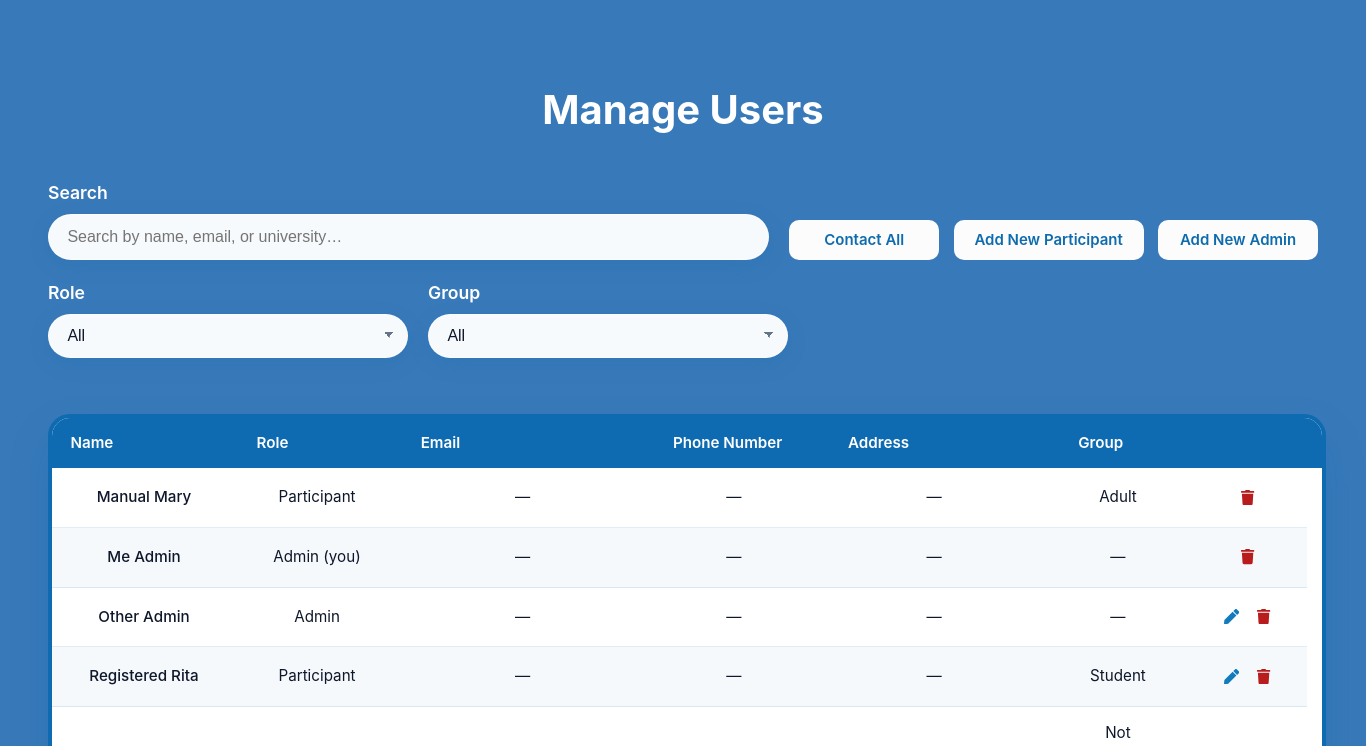
Scenario: Manage Users role select › shows a generic message for unexpected errors
Click the button named "Change role for Other Admin" at {"x": 1232, "y": 617}, box [1218,603,1246,631]
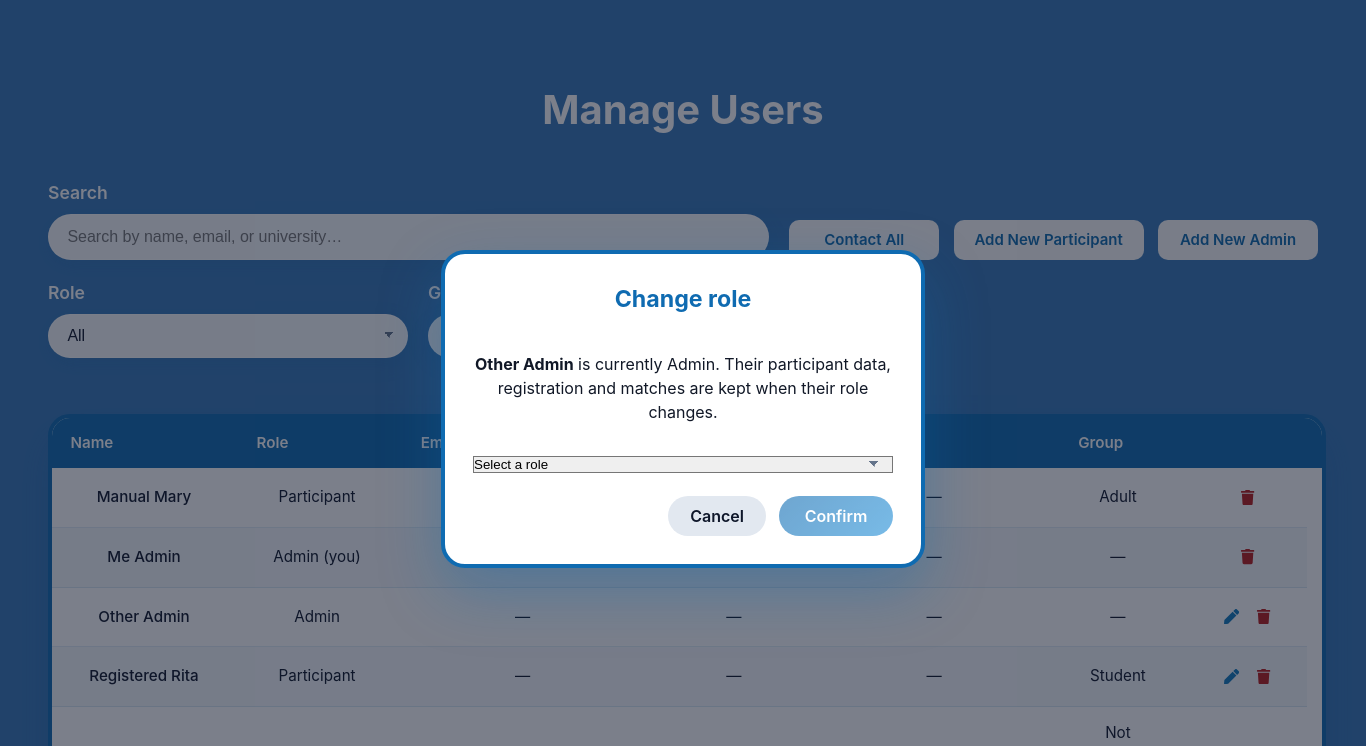
Select "Participant" in the dropdown named "New role" at {"x": 683, "y": 465}, box [473,456,893,473]
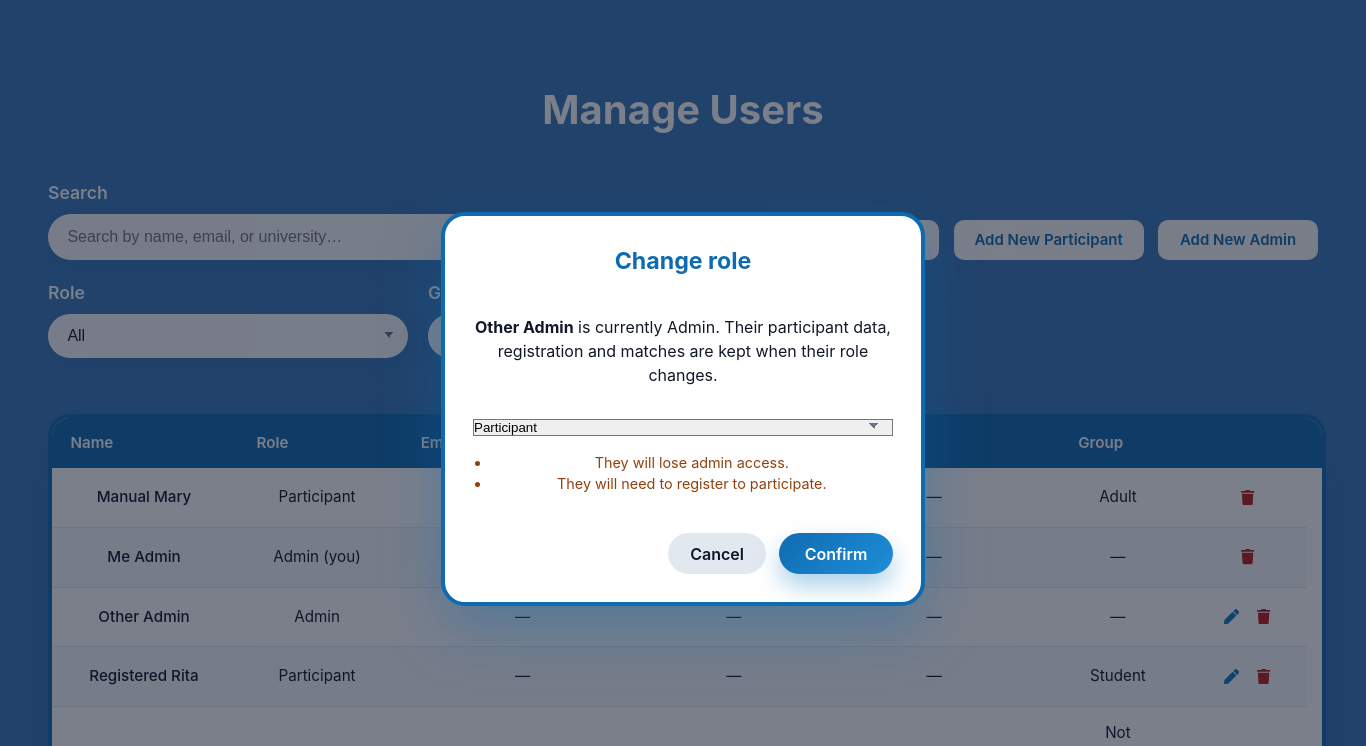
Click the button "Confirm" at {"x": 836, "y": 554}, box [779,533,893,574]
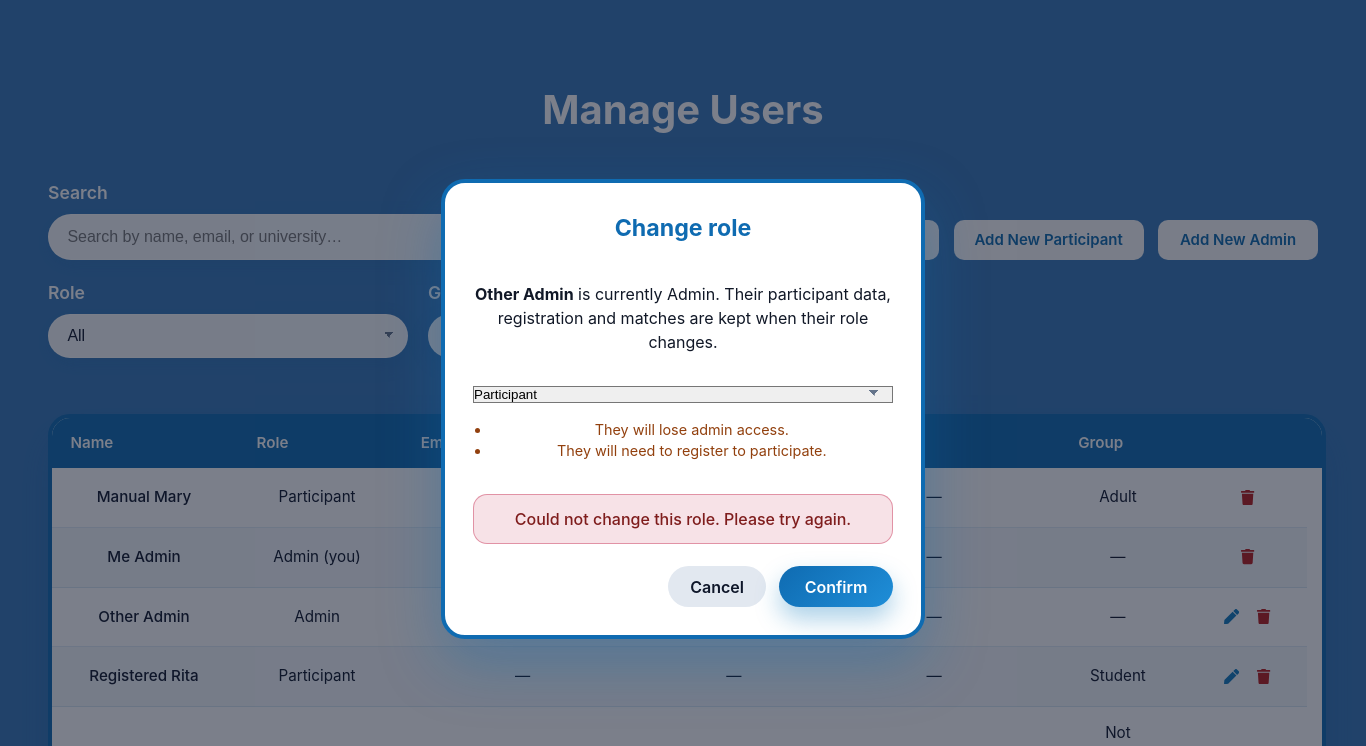
Check: the text "Could not change this role. Please try again." is shown, box [473,494,893,544]
